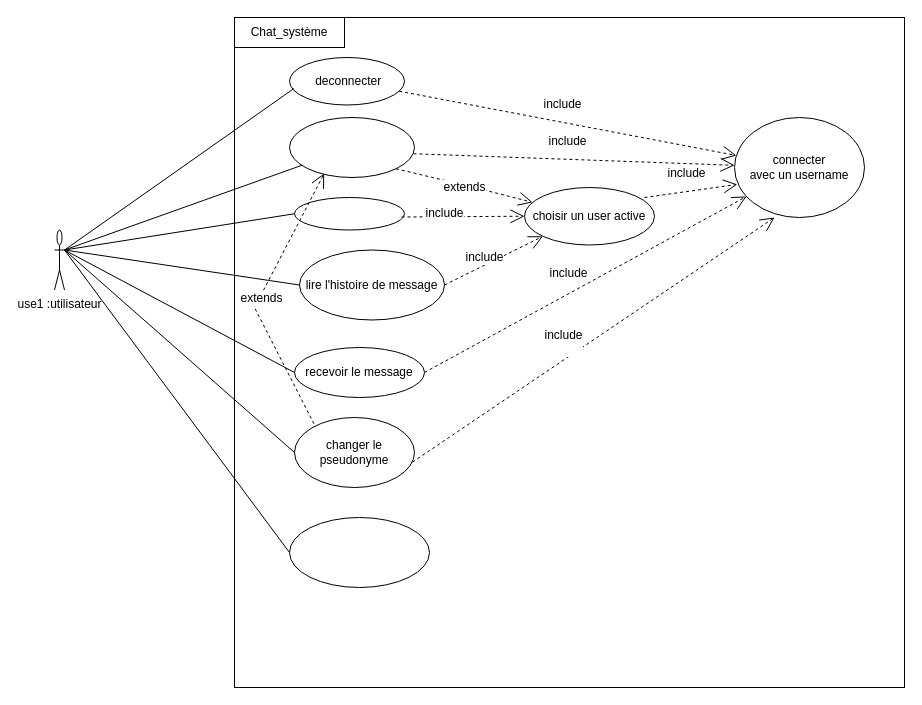
This 922x705 diagram has some shape labels left out. Each missing label, with the box of its shape:
envoyer: (294, 196, 404, 230)
renouveler list d'amie: (288, 116, 414, 178)
réduire l'agent: (288, 516, 430, 588)
